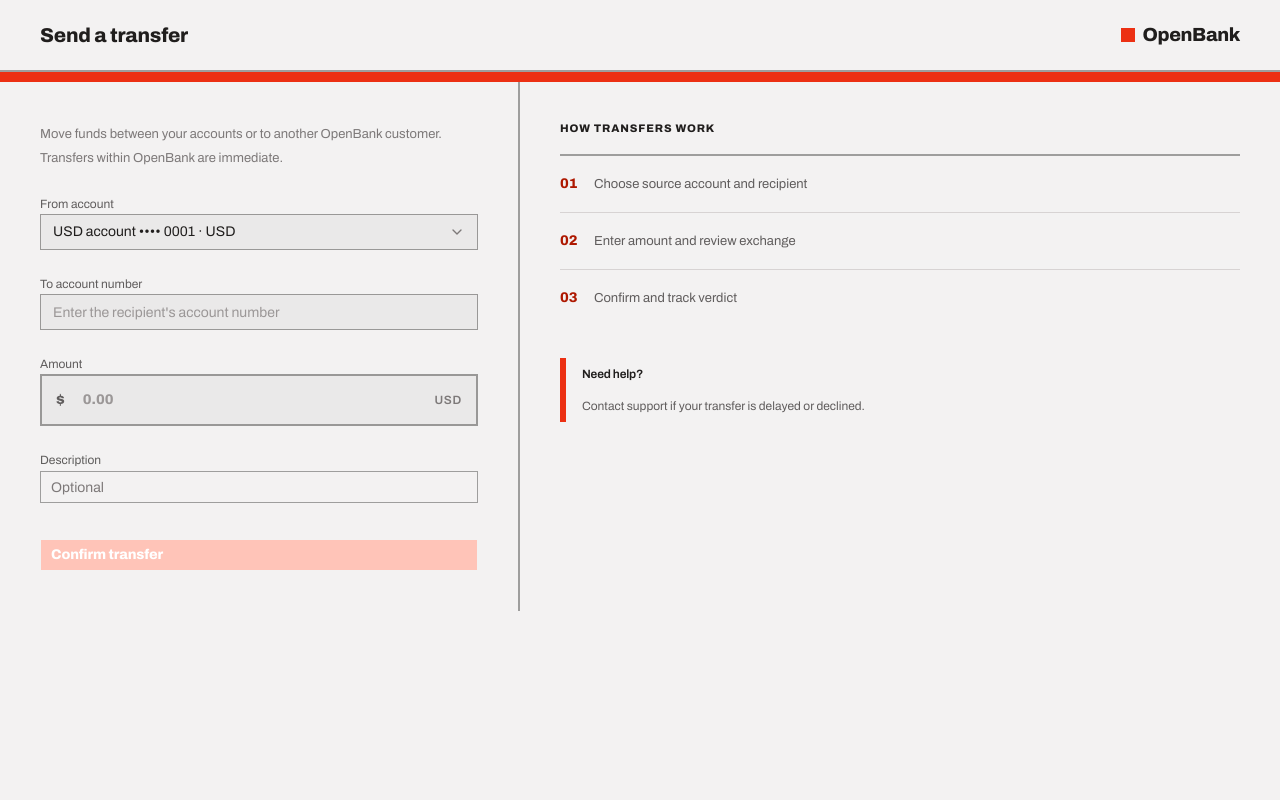
it: TransferPageScreen workspace › overlay appears on submit and shows aria-busy
This screenshot has width=1280, height=800.
Expected: the dropdown named "From account" is shown, [40,214,478,250]
Type "8800001122" into the field with placeholder "Enter the recipient's account number" at (259,312), box [40,294,478,330]
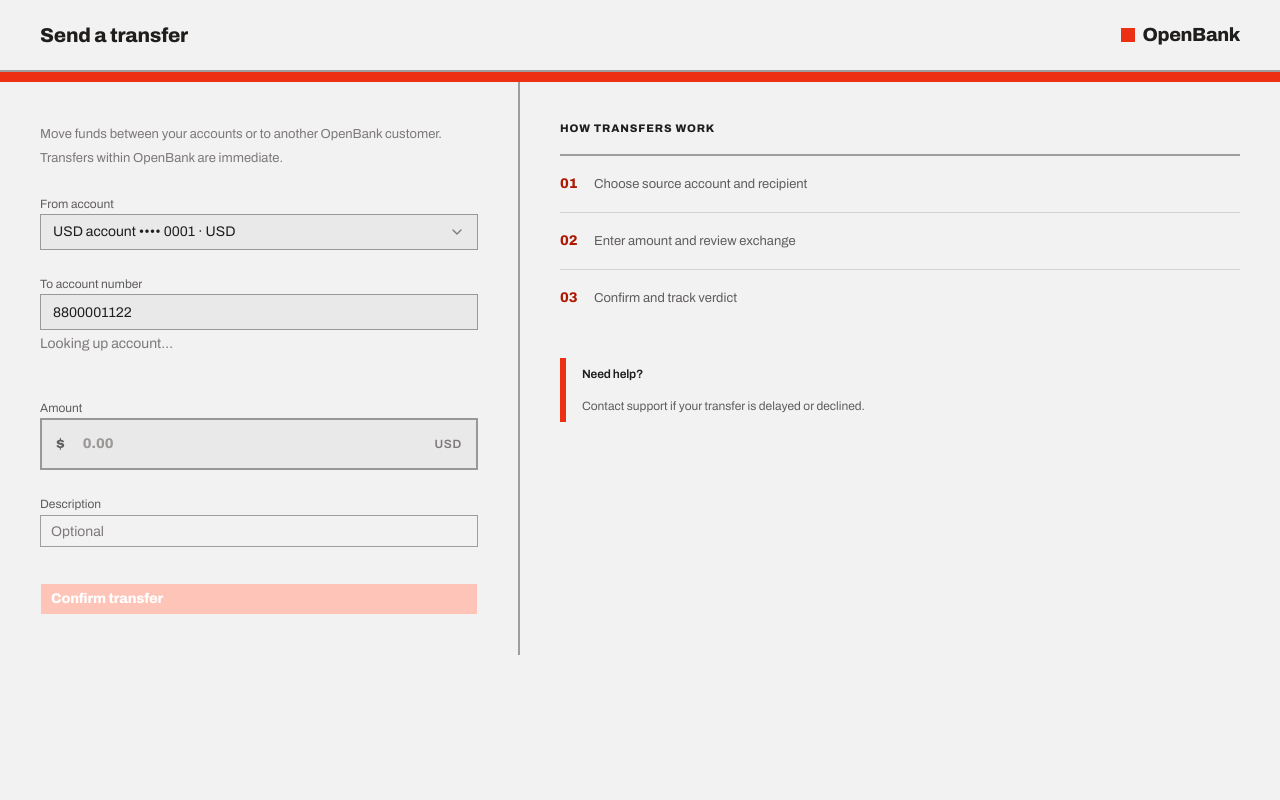
Type "10.00" into the field with placeholder "0.00" at (250,444), box [73,420,426,468]
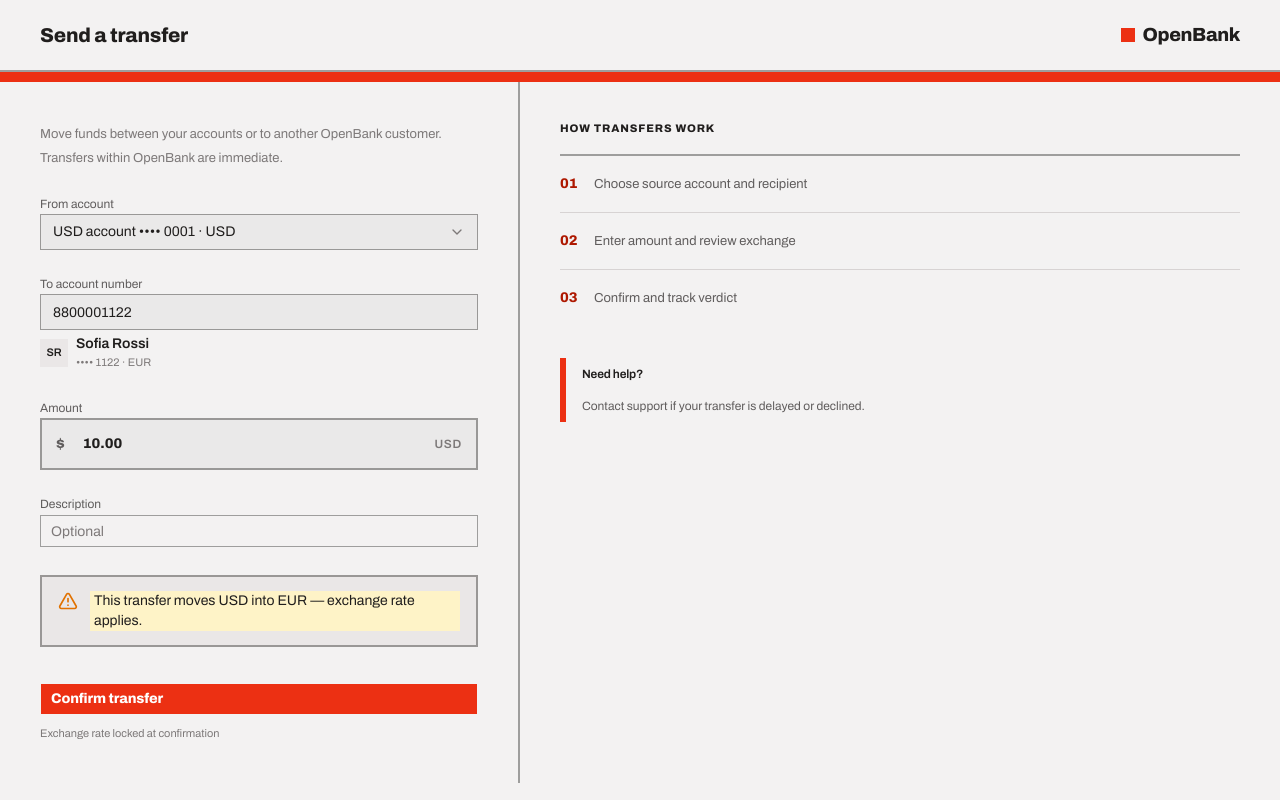
Now the text "Sofia Rossi" is shown, box [76,334,151,354]
Now the button "Confirm transfer" is enabled
Click the button "Confirm transfer" at (107,699), box [40,683,478,715]
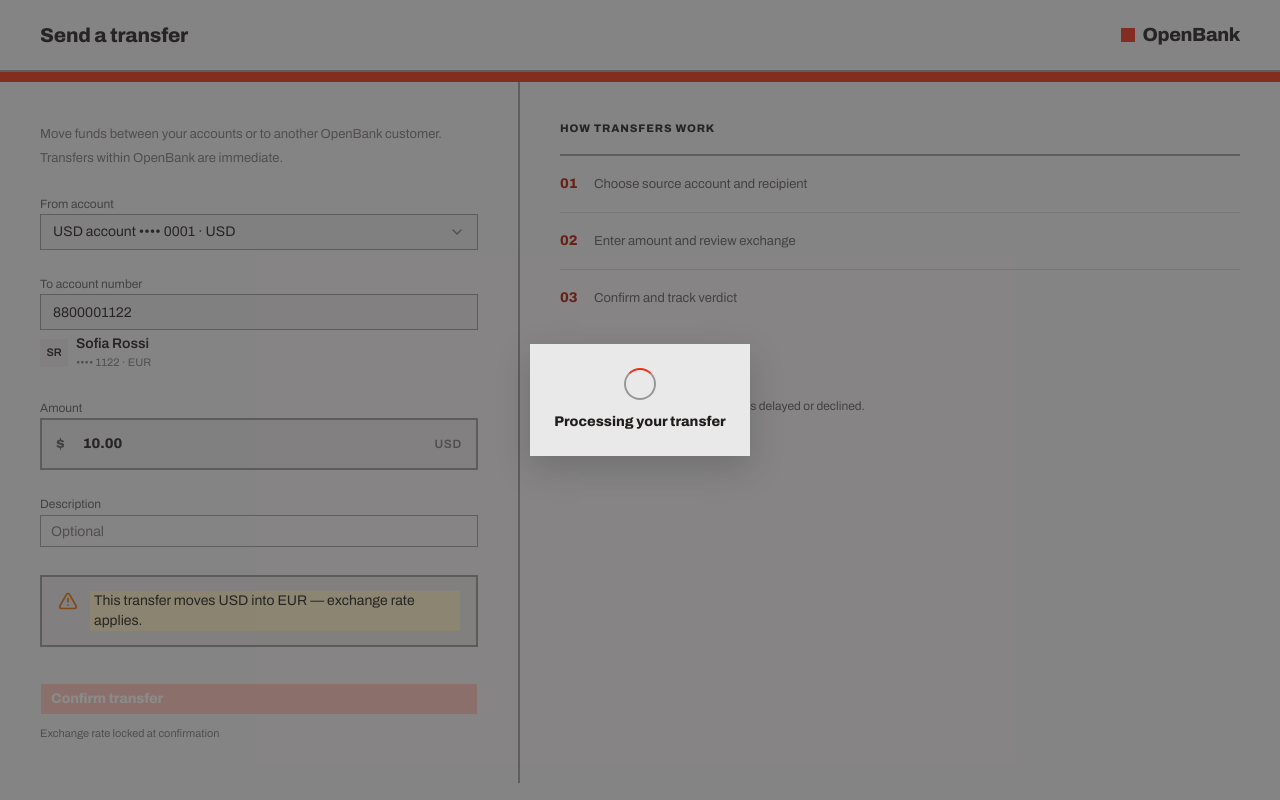
Now the element with test id "processing-overlay" is shown
Now the text "Processing your transfer" is shown, box [554,412,726,432]
